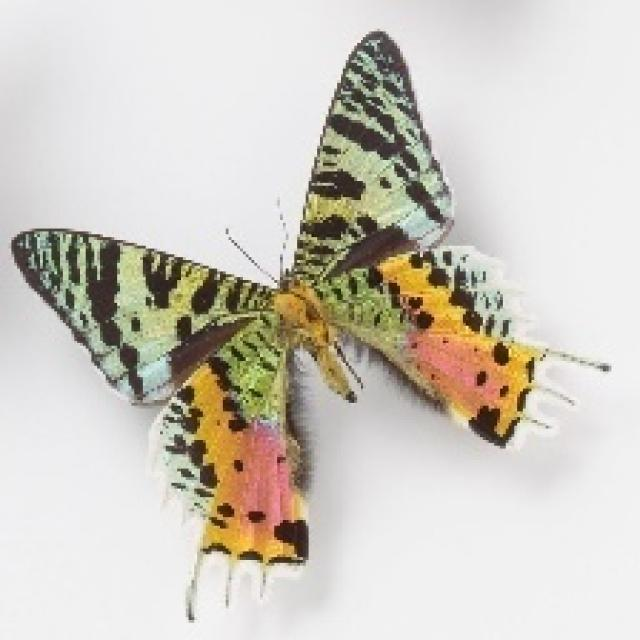butterfly: (9, 26, 612, 620)
